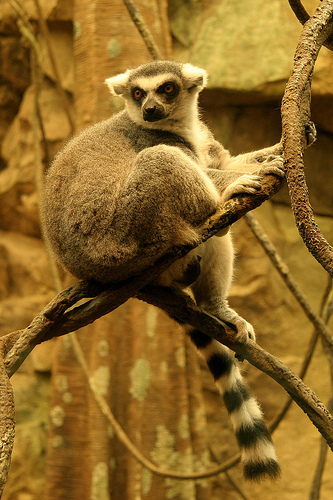cat: (37, 57, 317, 485)
